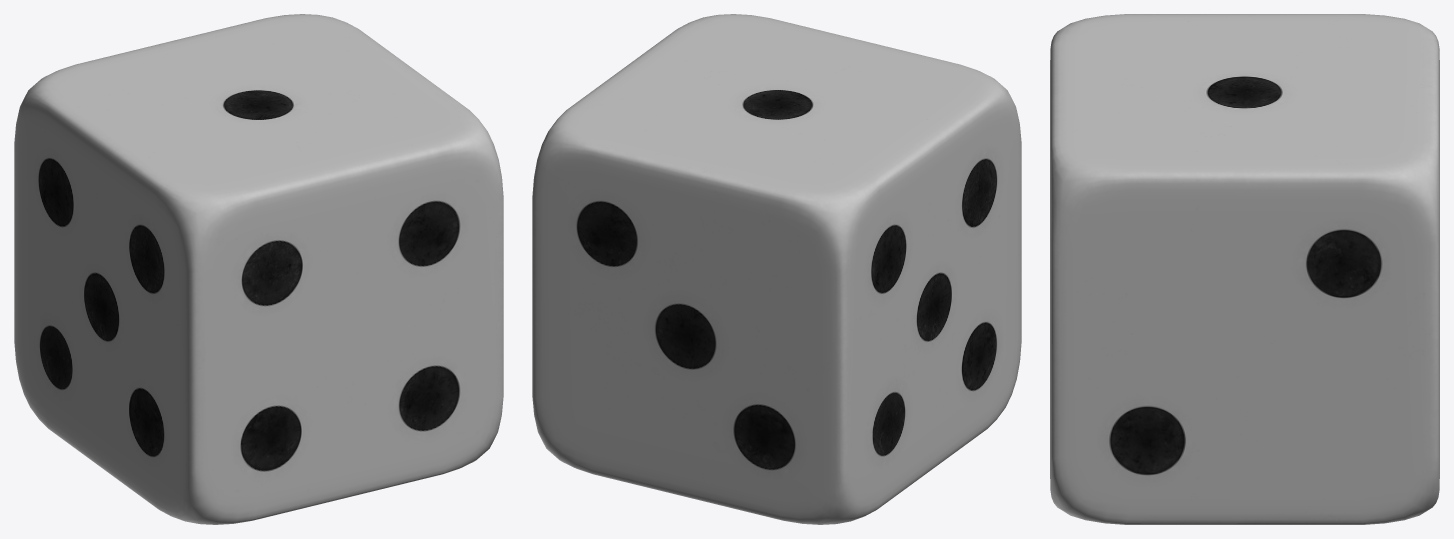
The model's file is dice2.glb.
The picture shows the model from 3 angles, left to right: view 1: azimuth 30°, elevation 25°; view 2: azimuth 150°, elevation 25°; view 3: azimuth 270°, elevation 25°; orthographic projection. The views are drawn at different scales.
Parts seen in each view (by area): view 1: Cube.001; view 2: Cube.001; view 3: Cube.001.
Part boxes in pixels (x1=…): Cube.001: x1=14, y1=14, x2=503, y2=524; Cube.001: x1=532, y1=14, x2=1021, y2=524; Cube.001: x1=1050, y1=14, x2=1439, y2=524.
Bounding box in the file's own units: 0.0175 × 0.0175 × 0.0175.
1 material, 1 textured.
